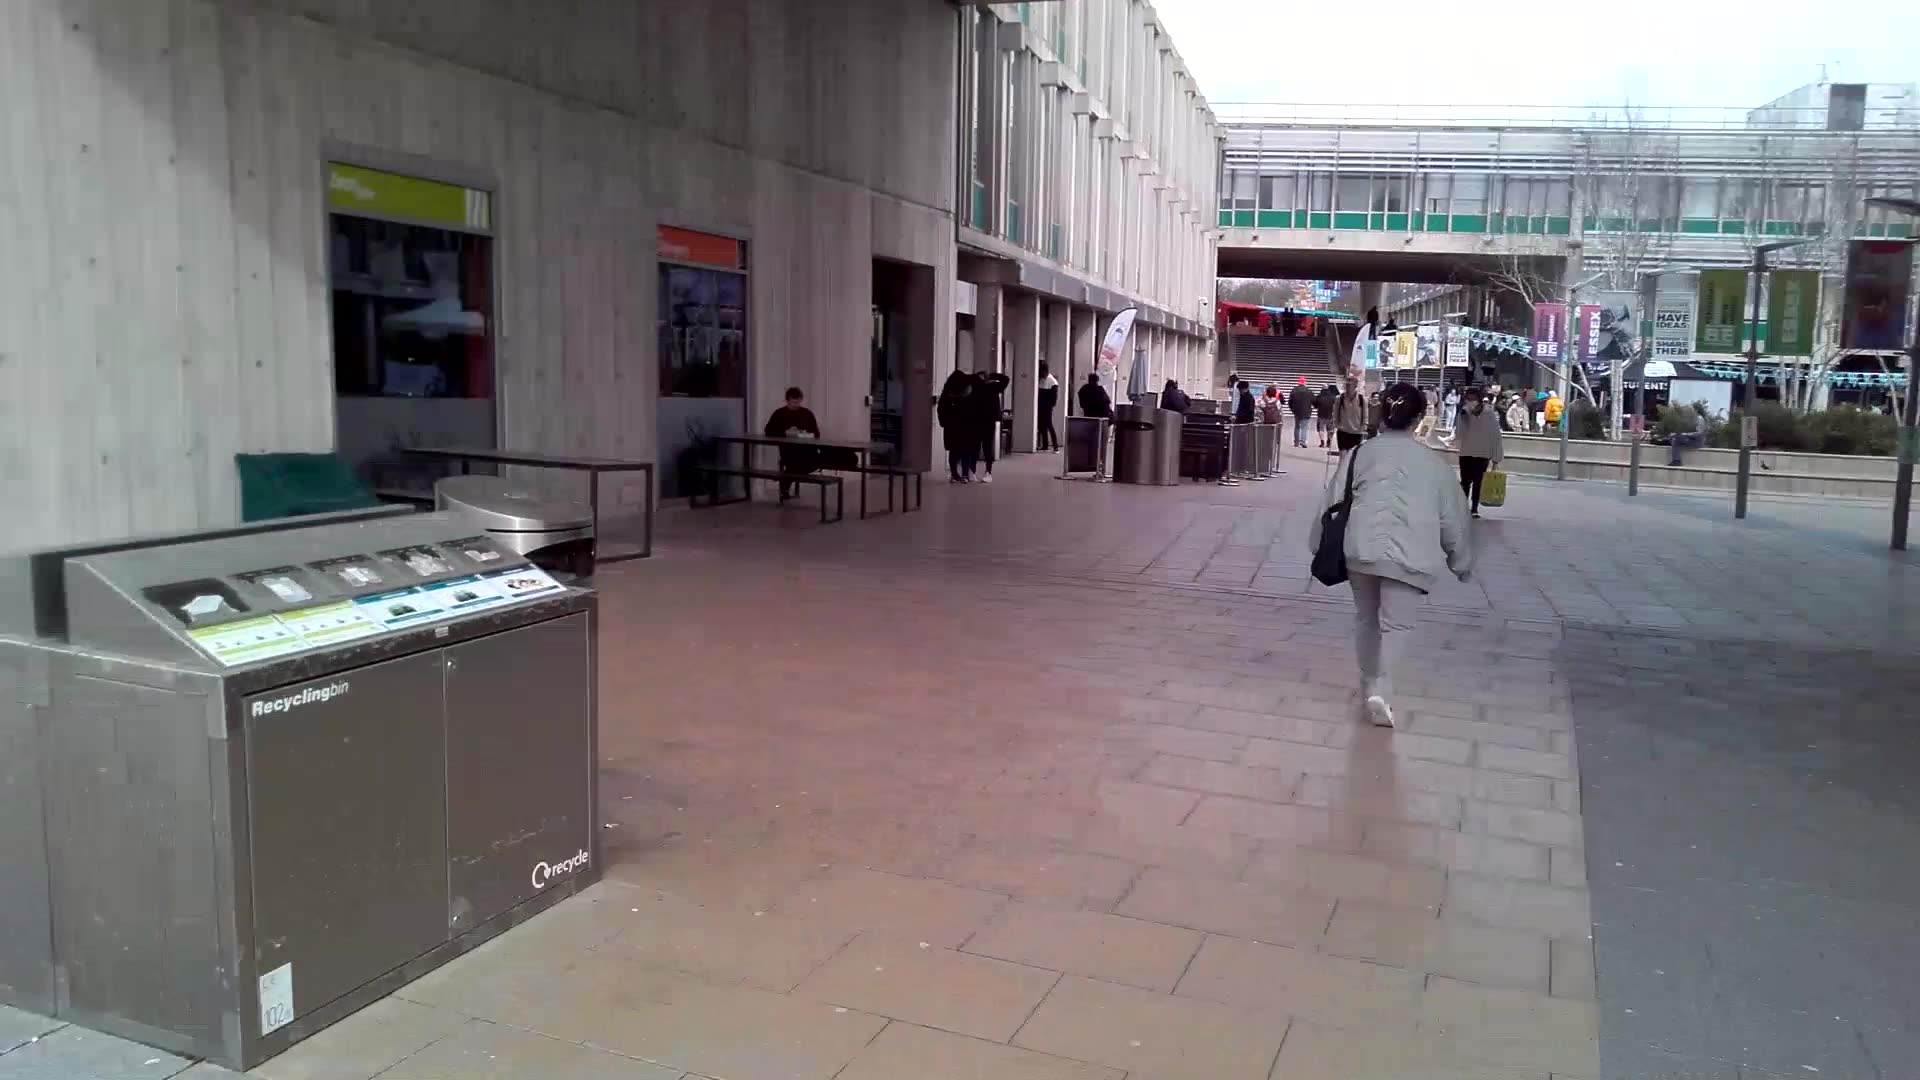Backpack: (1297, 494, 1368, 599), (1485, 466, 1509, 514)
Bin: (57, 511, 604, 1017)
Person: (1345, 383, 1442, 742), (772, 386, 818, 511), (1458, 385, 1498, 506), (1665, 399, 1714, 467)
